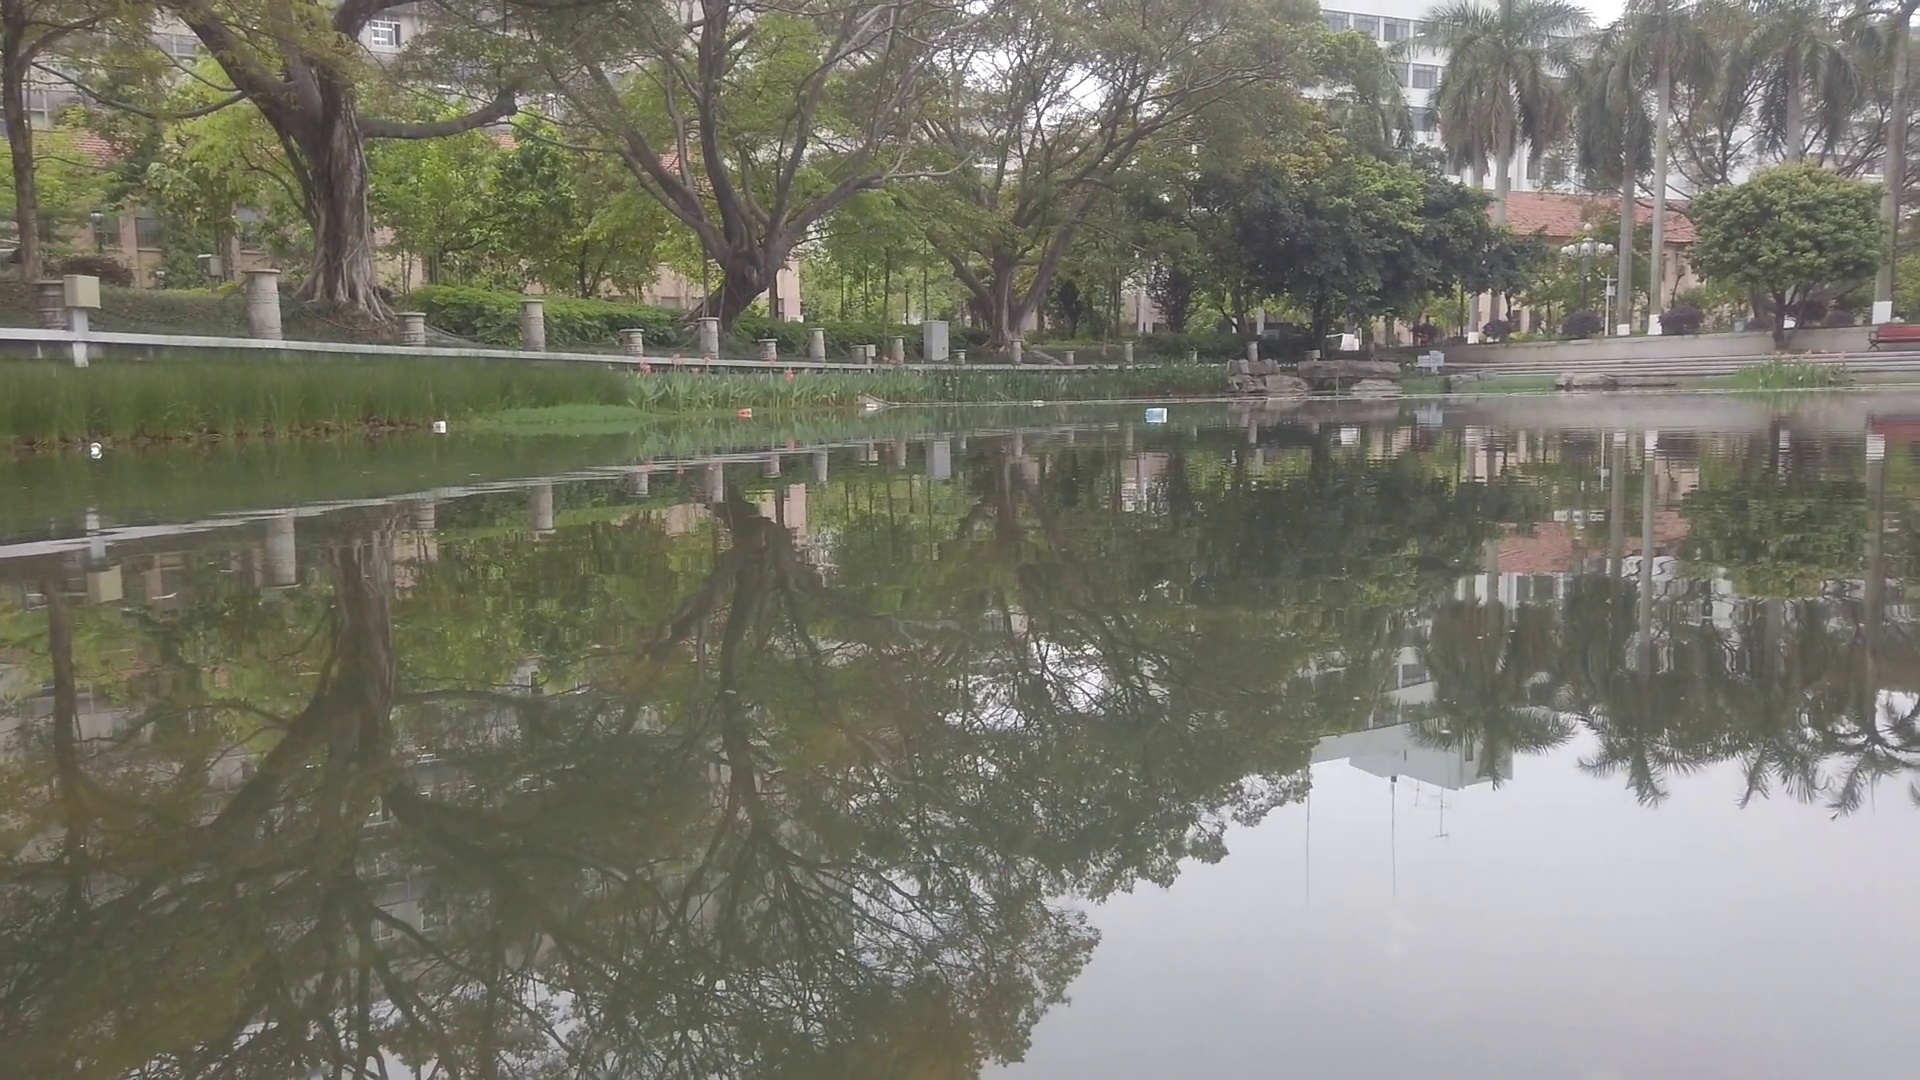bottle: (90, 440, 103, 459), (866, 404, 880, 411), (737, 409, 752, 415), (1033, 400, 1044, 406)
carton: (1145, 407, 1168, 422), (433, 419, 448, 434)
